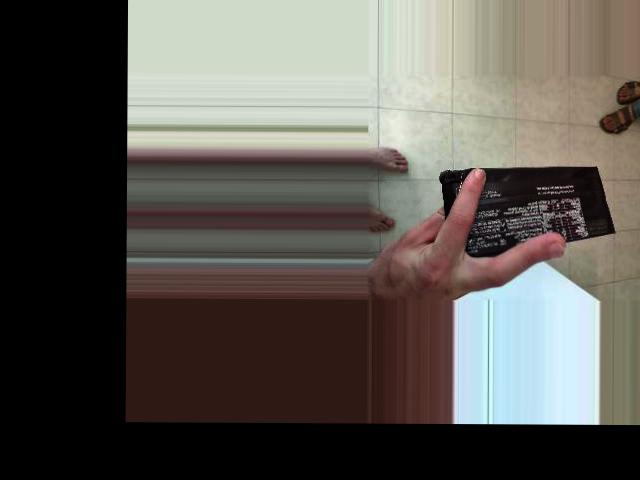chocolate: (477, 68, 586, 251)
